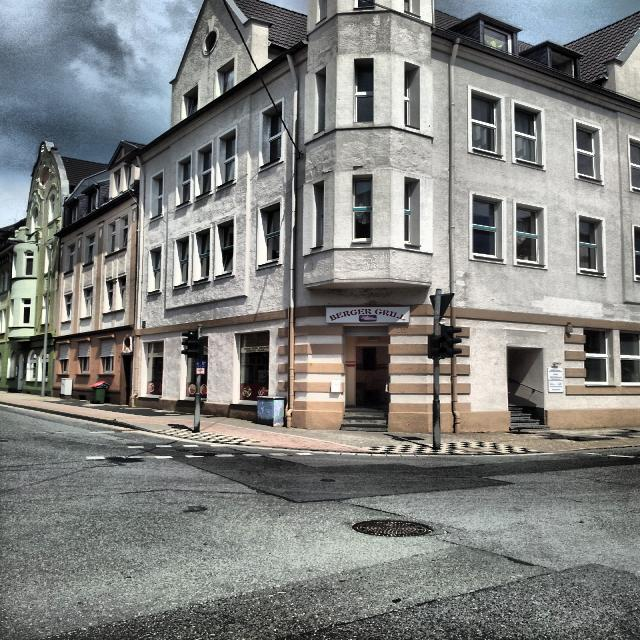escada: (340, 406, 388, 434), (507, 408, 549, 432)
